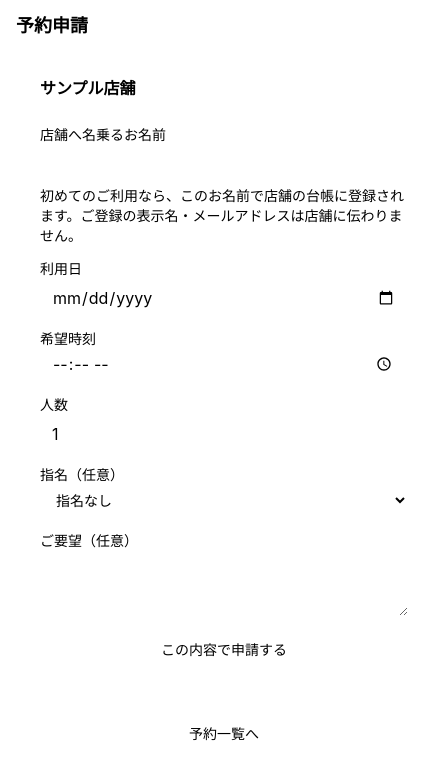
Test: MemberReservationNewPage › 利用日を変えたら、次の候補が届くまで前の日のキャストを残さない
Type "2026-08-10" into the date field labelled "利用日" at (224, 298), box top-left (40, 280), bottom-right (408, 316)
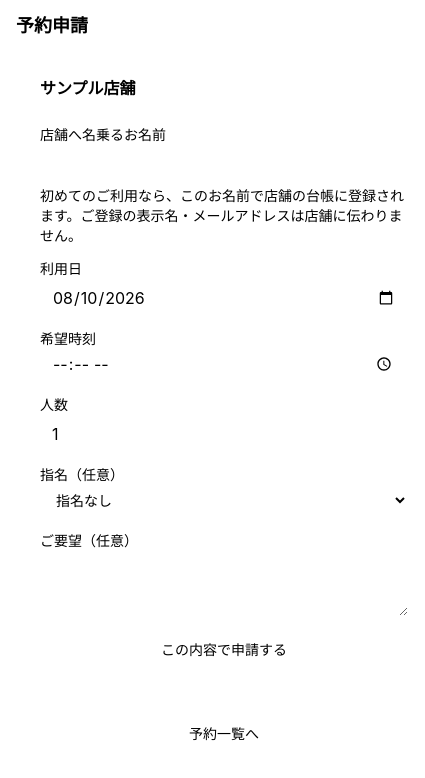
Type "2026-08-11" into the date field labelled "利用日" at (224, 298), box top-left (40, 280), bottom-right (408, 316)
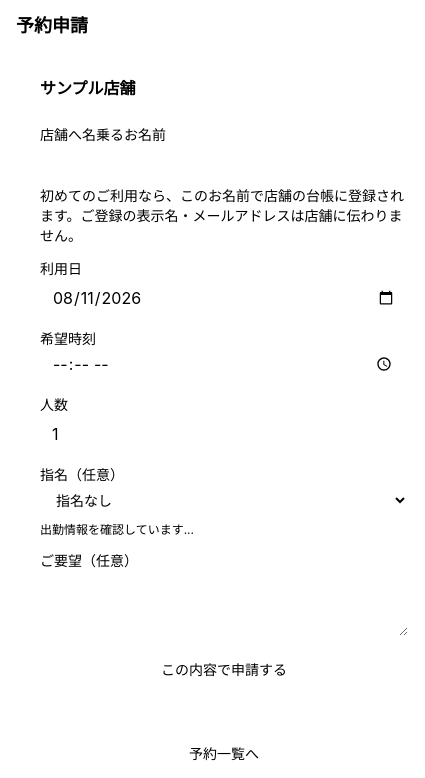
Now the text "出勤情報を確認しています..." is shown, box top-left (40, 522), bottom-right (194, 537)
